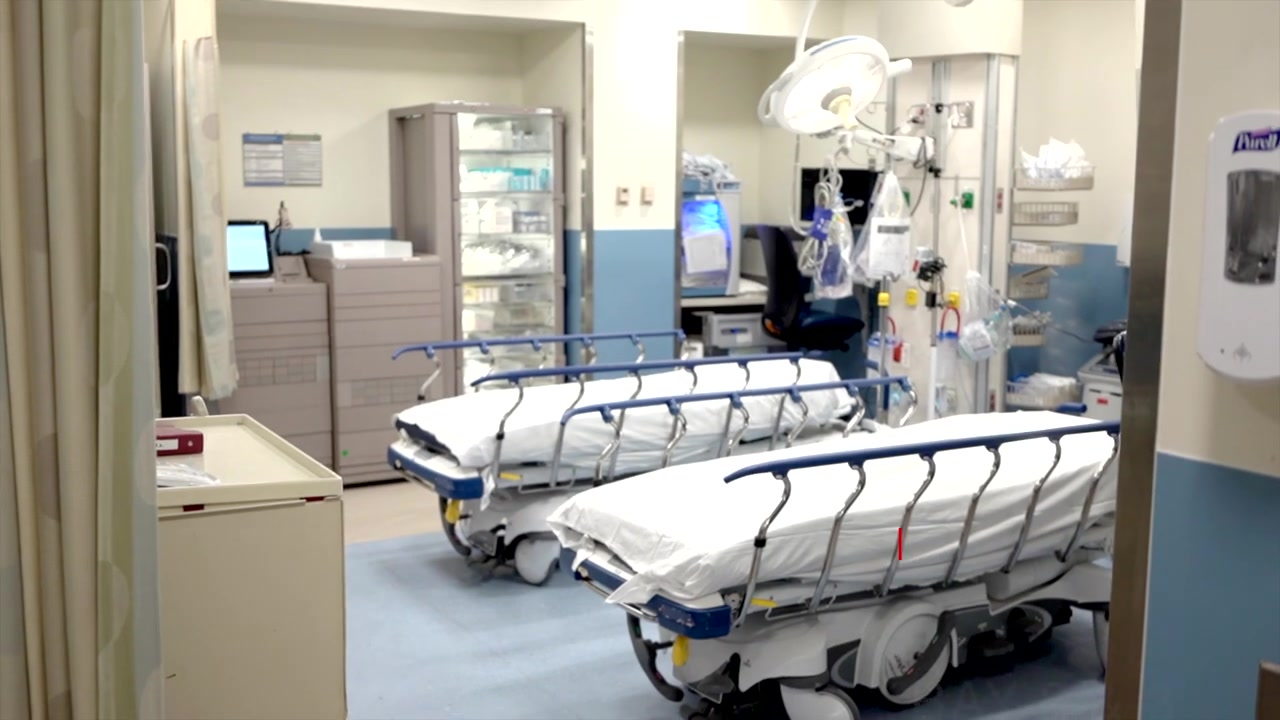bedrail: (722, 419, 1120, 621), (469, 351, 805, 483), (548, 374, 919, 486), (391, 328, 691, 404)
cabinet: (388, 100, 566, 386)
chair: (754, 224, 869, 352)
computer: (227, 218, 276, 277)
curtain: (1, 1, 166, 720), (188, 19, 241, 402)
dispenser: (1195, 107, 1280, 382)
drawer: (309, 253, 444, 487), (207, 283, 332, 471)
handle: (156, 243, 173, 292)
hospital_bed: (544, 374, 1109, 705), (387, 335, 918, 586)
iv_pole: (909, 101, 970, 420), (867, 99, 900, 364)
surgical_light: (769, 34, 889, 134)
